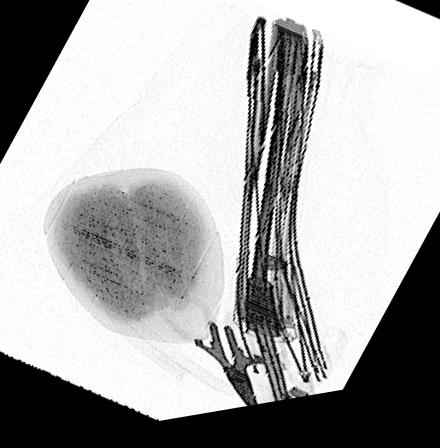Scissors: (145, 294, 284, 415)
